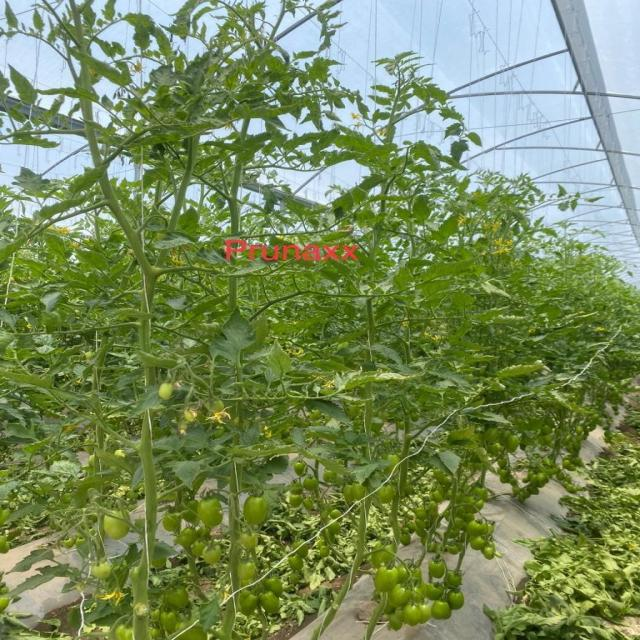T_F_H: (198, 499, 224, 529), (376, 567, 399, 594), (433, 601, 453, 621), (429, 561, 446, 580)
T_F_R: (243, 497, 267, 526), (104, 516, 131, 540), (391, 585, 411, 609), (403, 605, 423, 627)
